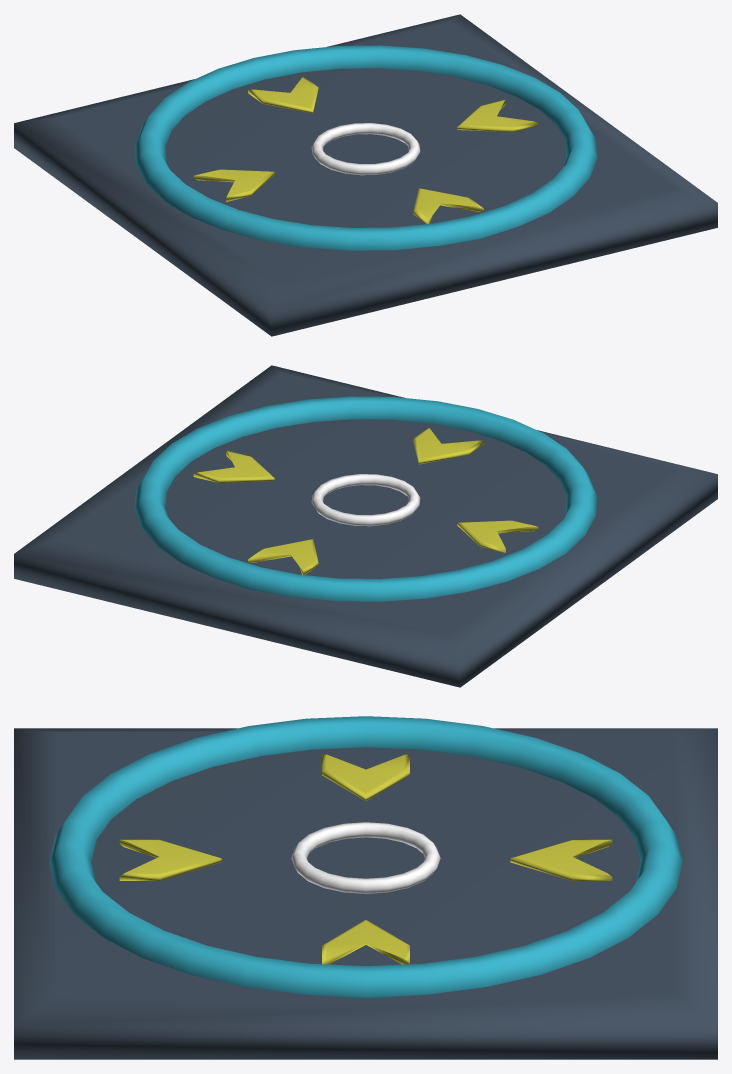
The model's file is BoardingPad.glb.
3 views of the same model, one above another, from view 1: azimuth 30°, elevation 25°; view 2: azimuth 150°, elevation 25°; view 3: azimuth 270°, elevation 25° (orthographic). The views are drawn at different scales.
Parts seen in each view (by area): view 1: Body, Rim, Target; view 2: Body, Rim, Target; view 3: Body, Rim, Target.
Boxes of the visible parts, x1,y1,x2,y2 form: Body: (14, 14, 717, 336); Rim: (134, 45, 597, 250); Target: (193, 76, 538, 223); Body: (14, 365, 717, 687); Rim: (134, 396, 597, 601); Target: (193, 427, 538, 574); Body: (14, 728, 717, 1059); Rim: (49, 716, 682, 998); Target: (119, 754, 612, 964).
Bounding box in the file's own units: 1.12 × 0.1383 × 1.12.
1 material, 1 textured.
